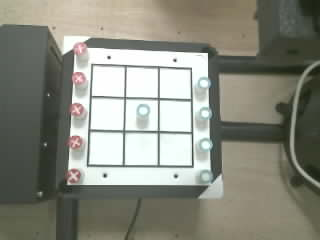blue circle: (199, 138, 213, 152), (199, 107, 212, 119), (200, 170, 212, 183), (137, 104, 149, 117), (197, 77, 210, 88)
board: (67, 44, 214, 185)
cells: (89, 132, 122, 164), (160, 134, 192, 166), (125, 133, 157, 165), (90, 98, 123, 129), (126, 99, 157, 130), (92, 66, 124, 96), (126, 67, 157, 97), (160, 101, 191, 131), (160, 68, 190, 98)
grid: (87, 64, 193, 167)
red cross: (66, 169, 81, 184), (68, 136, 83, 150), (69, 103, 84, 116), (73, 42, 86, 55), (72, 72, 85, 84)
